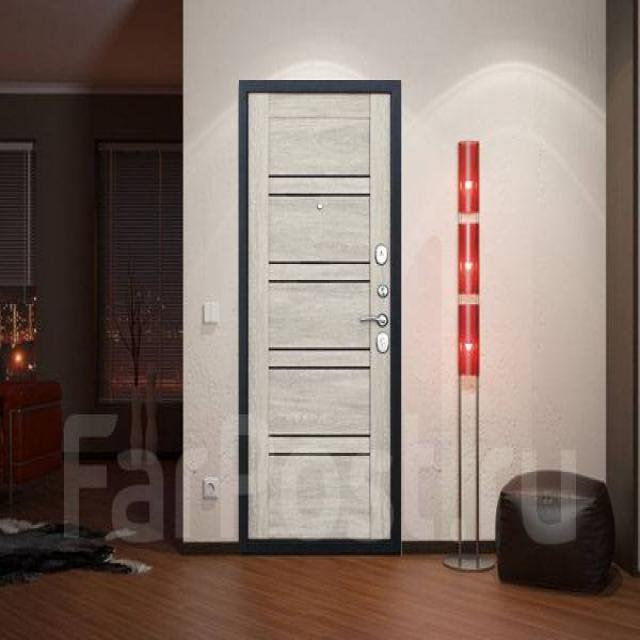close: (240, 82, 398, 553)
